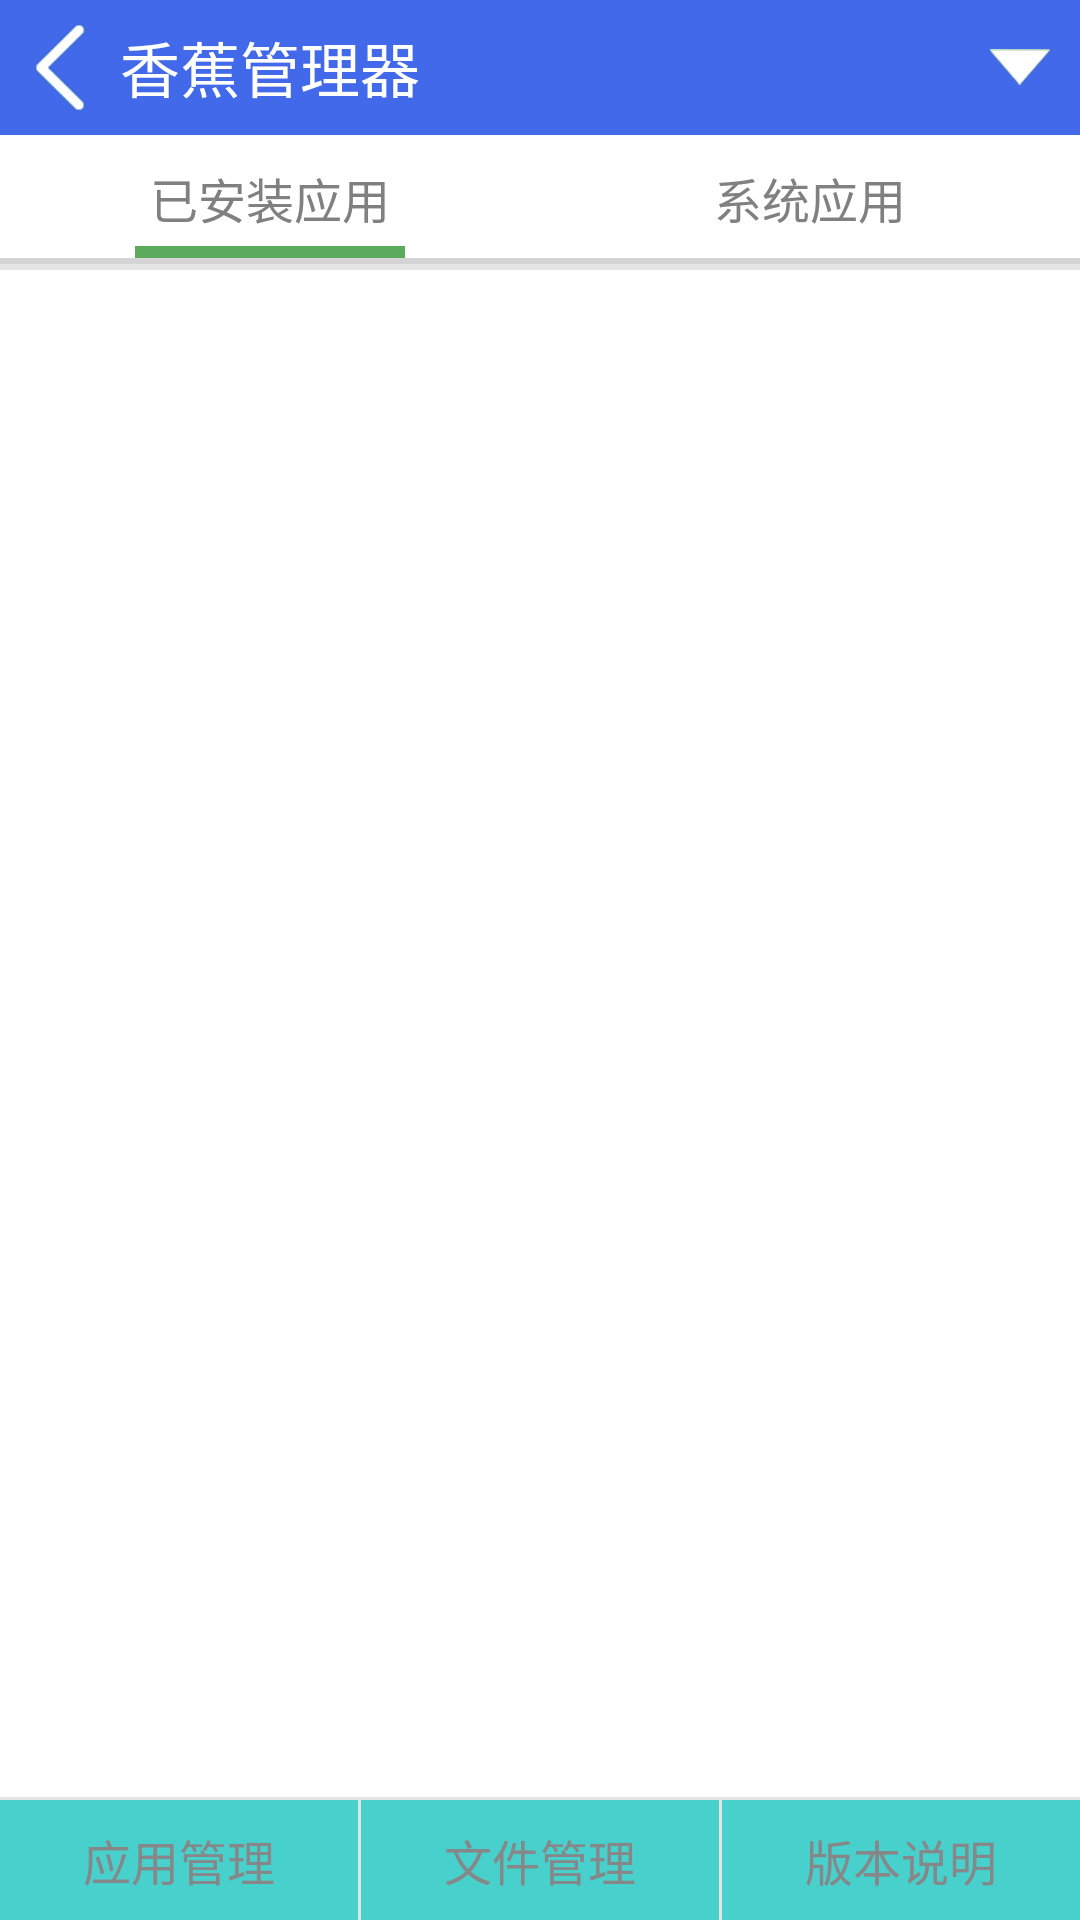

Where icons sit on this 1080px x 1920px app screen, as (x1, y1, x2, y2):
arrowexit: (35, 25, 85, 111)
